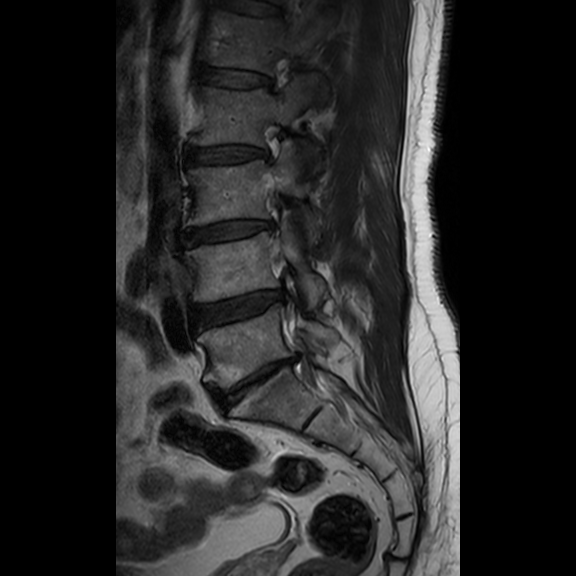RFS0: (254, 44, 301, 109), (246, 114, 295, 175)
